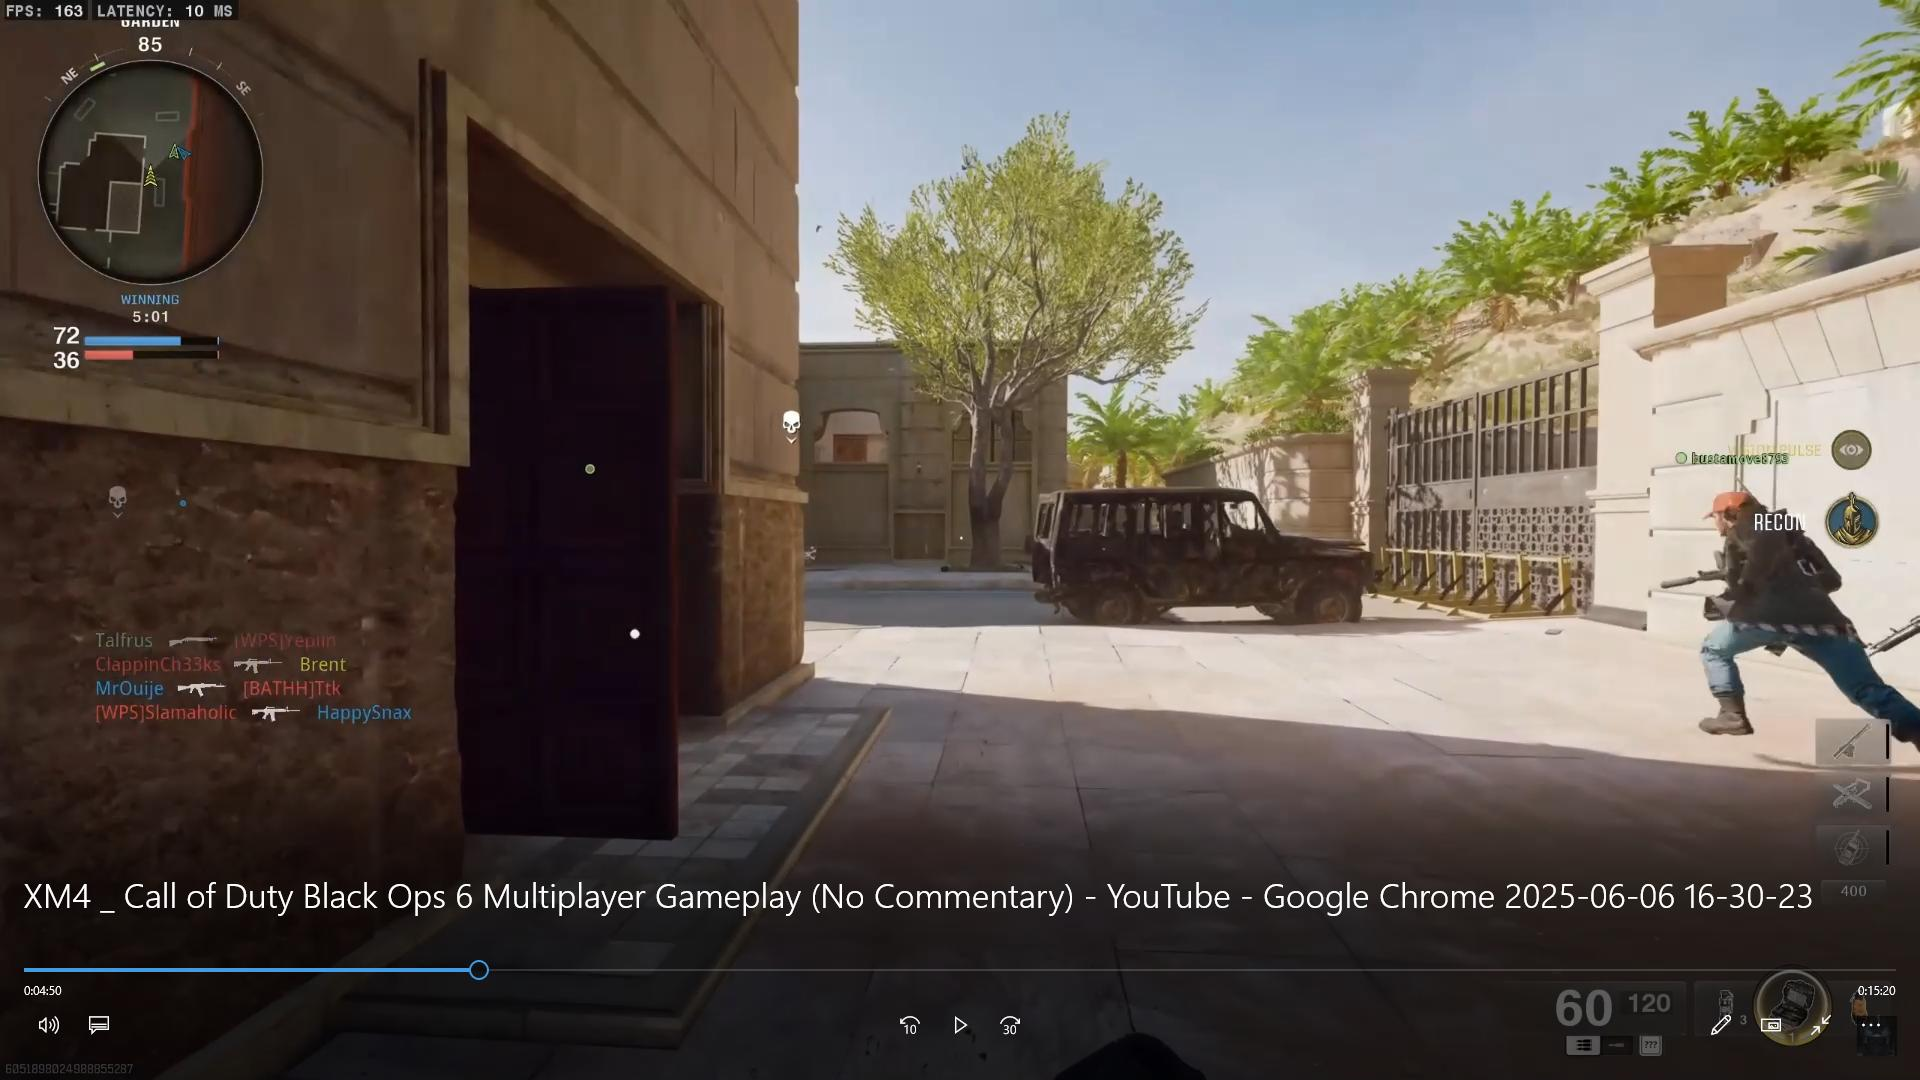Enemy: (1669, 479, 1911, 758)
